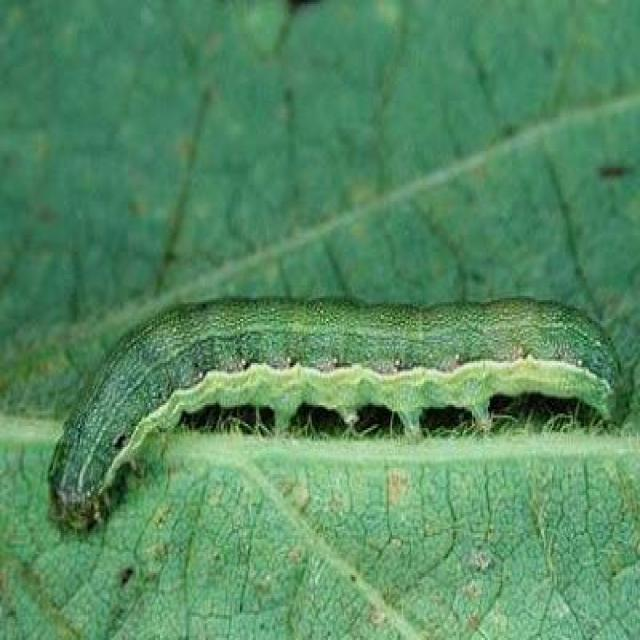BeetArmyWorm-Larva-: (31, 282, 630, 544)
